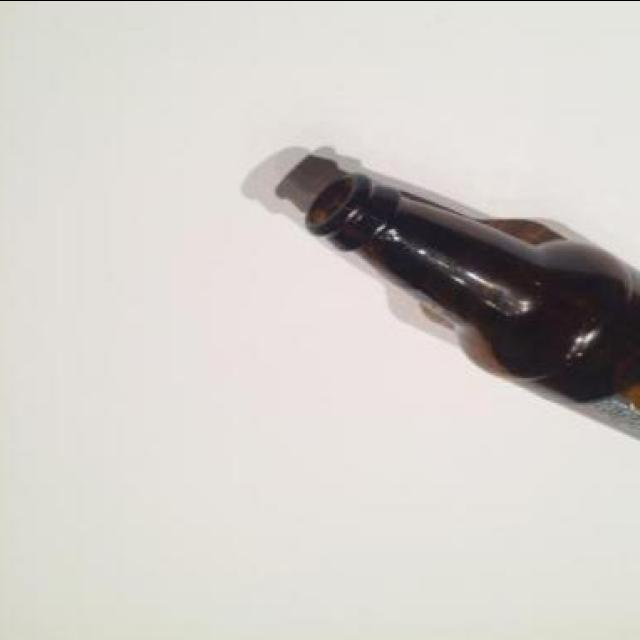kaca: (303, 172, 640, 458)
